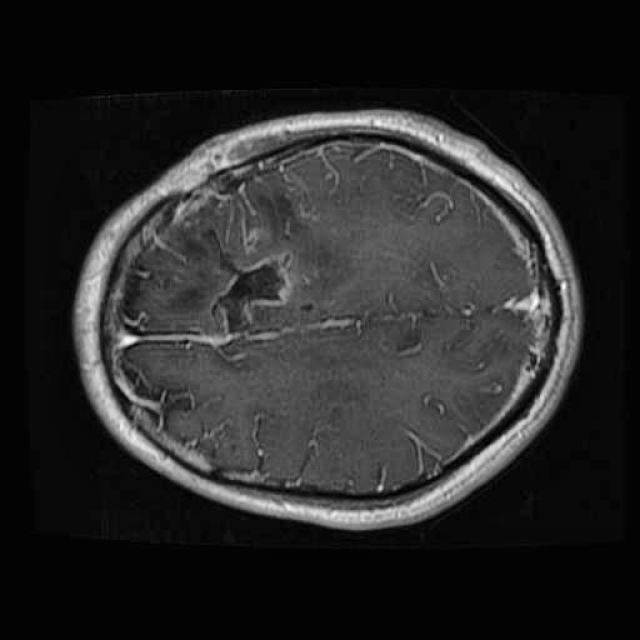Non-Tumor: (189, 210, 310, 358)
